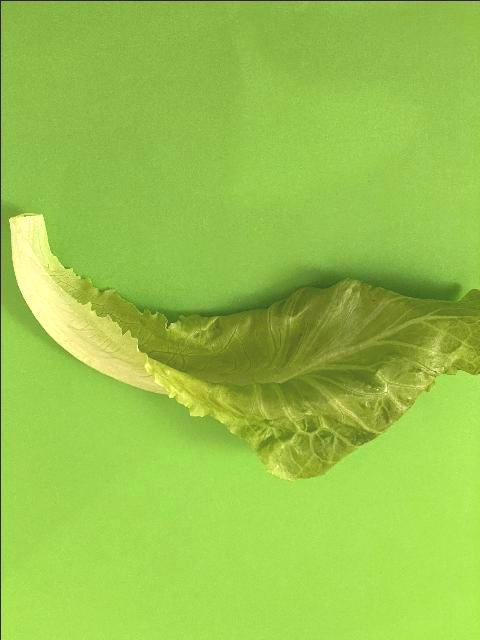lettuce: (6, 209, 480, 485)
